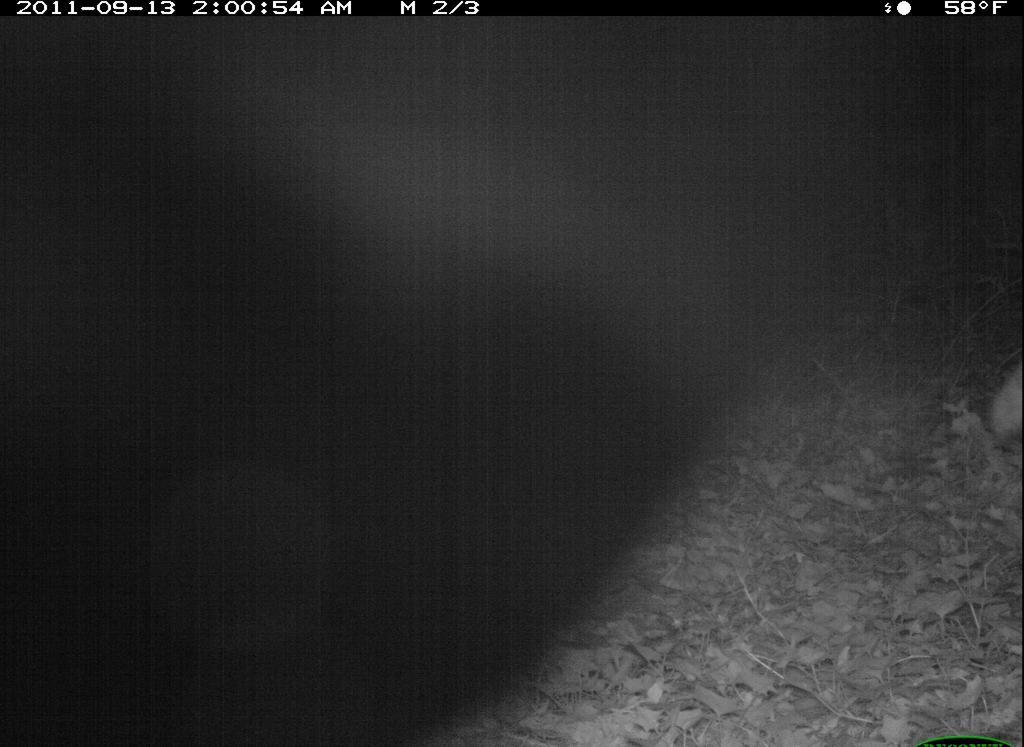coyote: (418, 313, 1004, 747)
